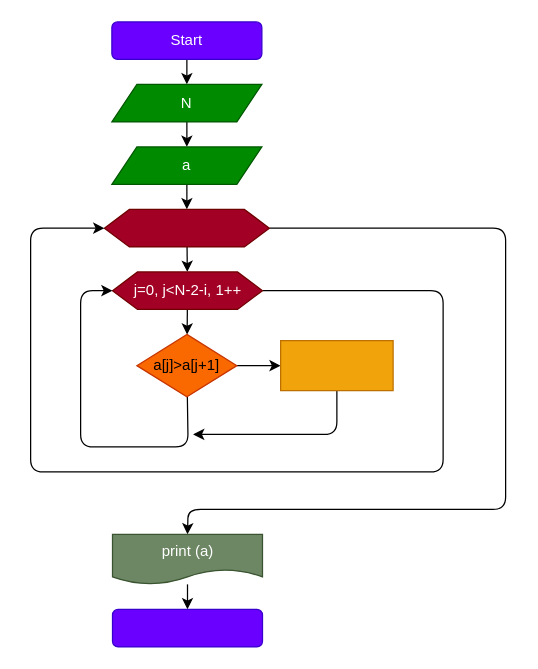
The diagram is 538 pixels wide and 669 high, and some of its shapes have lost their labels. The box of each missing label's shape, as (x1, y1, x2, y2) in pixels:
end: (111, 608, 262, 647)
i=0, i<N-1, 1++: (103, 208, 269, 247)
swapping a[j] and a[j+1]: (279, 339, 393, 391)
